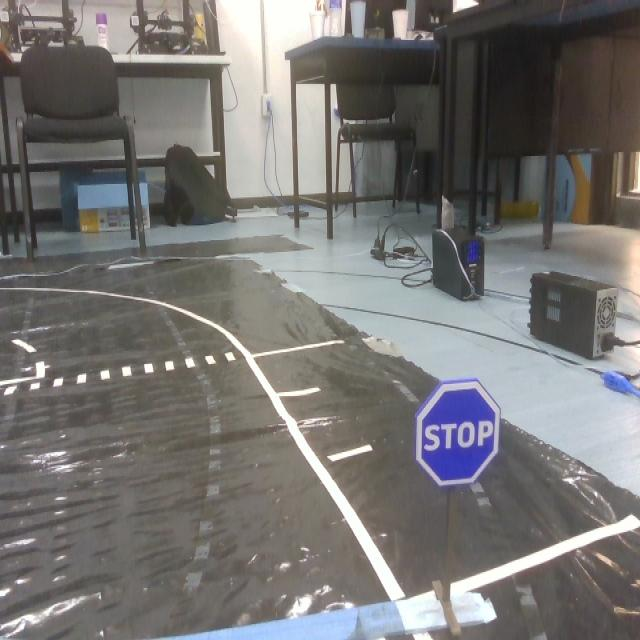no_entry: (424, 374, 502, 490)
